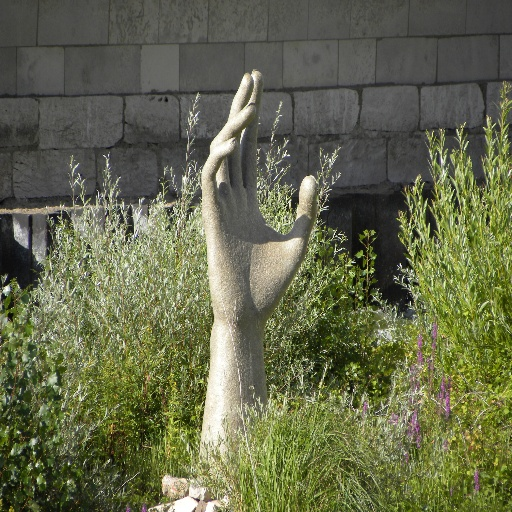hand: (200, 65, 318, 327)
